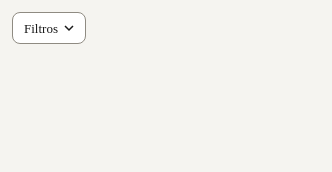
Test: FiltrosPlegables › nace cerrado, abre y cierra con el disparador y con Escape devolviendo el foco
Later steps or results of the test are not shown.
Click the button with test id "filtros-plegables" at (49, 28), box x1=12 y1=12 x2=86 y2=44
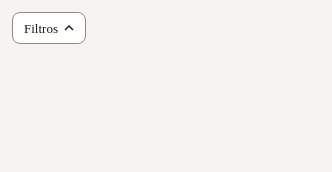
expect the button with test id "filtros-plegables" is expanded: met, box x1=12 y1=12 x2=86 y2=44
